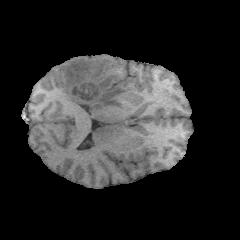glioma: (62, 57, 126, 109)
